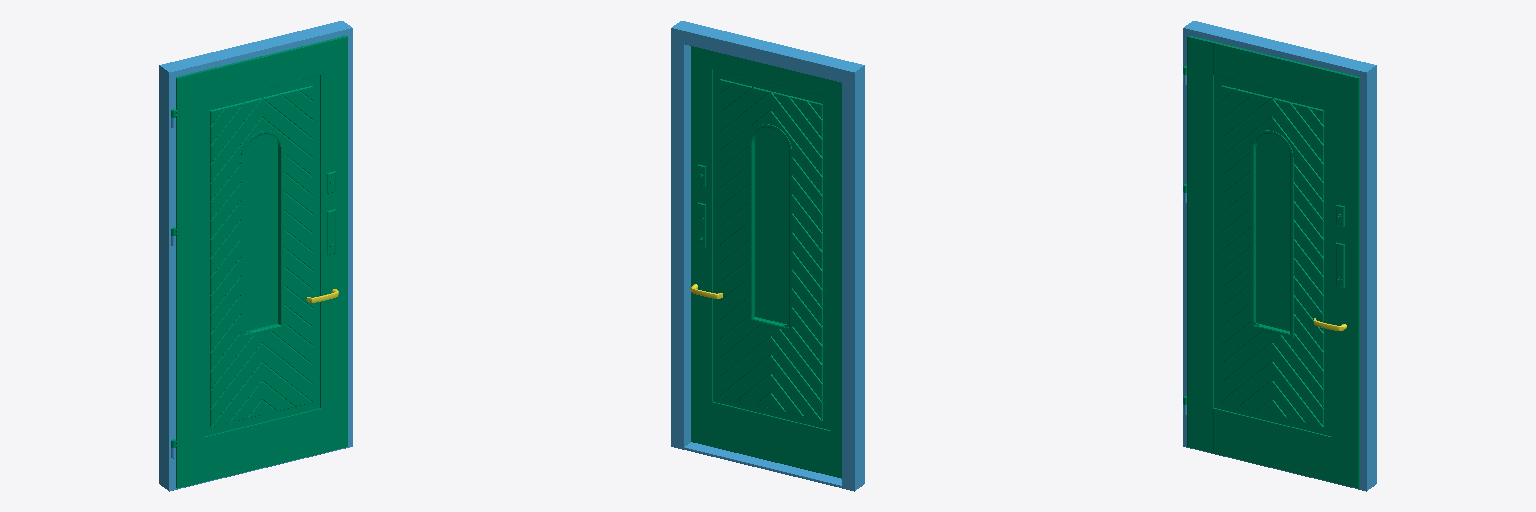
URDF robot description (urdf_door):
<?xml version="1.0" ?>
<robot name="urdf_door">
 <link name="world"/>
  <joint name="fixed" type="fixed">
    <parent link="world"/>
    <child link="baseLink"/>
    <origin xyz="0 0 0"/>
  </joint>

  <link name="baseLink">
    <inertial>
      <origin rpy="0 0 0" xyz="0 0 0"/>
       <mass value="10.0"/>
       <inertia ixx="0.1" ixy="0" ixz="0" iyy="0.1" iyz="0" izz="0.1"/>
    </inertial>
    <visual>
        <origin xyz='0 0 0' rpy='1.5707963267948966 0 0'/>
    <geometry>
     <mesh filename="door/055_frame.obj"  scale="0.01 0.01 0.01" />
    </geometry>
    </visual>
    <collision>
        <origin xyz='0 0 0' rpy='1.5707963267948966 0 0'/>
    <geometry>
     <mesh filename="door/055_frame_vhacd.obj"  scale="0.01 0.01 0.01" />
    </geometry>
    </collision>
  </link>

  <link name="childA">
    <inertial>
      <origin rpy="0 0 0" xyz="0 0 0"/>
      <mass value="40.0"/>
      <inertia ixx="0.048966669" ixy="0" ixz="0" iyy="0.046466667" iyz="0" izz="0.0041666669"/>
    </inertial>

    <visual>
    <origin xyz='0.45 0.04 0' rpy='1.5707963267948966 0 0'/>
    <geometry>
     <mesh filename="door/055_door.obj"  scale="0.01 0.01 0.01" />
    </geometry>
    </visual>

    <collision>
    <origin xyz='0.45 0.04 0' rpy='1.5707963267948966 0 0'/>
    <geometry>
     <mesh filename="door/055_door.obj"  scale="0.01 0.01 0.01" />
    </geometry>
    </collision>
  </link>


  <link name="knob">
    <inertial>
      <mass value="0.1"/>
      <inertia ixx="0.0" ixy="0" ixz="0" iyy="0.0" iyz="0" izz="0.0"/>
    </inertial>

    <visual>
    <geometry>
    <mesh filename="door/055_knob_centered.obj"  scale="0.01 0.01 0.01" />
    </geometry>
    </visual>

    <collision>
    <geometry>
     <mesh filename="door/055_knob_centered.obj"  scale="0.01 0.01 0.01" />
    </geometry>
    </collision>
   </link>

   <joint name="joint_baseLink_childA" type="revolute">
    <parent link="baseLink"/>
    <child link="childA"/>
	<dynamics damping="1.0" friction="0.0"/>
    <origin xyz="-0.45 -0.04 0"/>
    <axis xyz="0 0 1"/>
    <limit lower="-3.14159263" upper="0" />
  </joint>


  <joint name="door_to_knob" type="fixed">
  <parent link="childA"/>
  <child link="knob"/>
  <origin xyz="0.78 0.04 0.8" rpy="1.57 0 0"/>
  </joint>


</robot>

--- What the picture shows (computed from the rendered views, not written in the file) ---
Views: 3 orthographic renders of the robot side by side, from view 1: azimuth 30°, elevation 25°; view 2: azimuth 150°, elevation 25°; view 3: azimuth 330°, elevation 25°.
Model urdf_door with 4 links and 3 joints (1 revolute, 2 fixed), rooted at world, posed all joints at 0.
Links seen in each view (by area): view 1: childA, baseLink; view 2: childA, baseLink; view 3: childA, baseLink.
Boxes of the visible links, bbox=[...] form: childA: bbox=[171, 36, 347, 488]; baseLink: bbox=[159, 21, 352, 491]; childA: bbox=[691, 46, 841, 478]; baseLink: bbox=[671, 21, 864, 491]; childA: bbox=[1183, 36, 1359, 488]; baseLink: bbox=[1183, 21, 1376, 491].
Bounding box of the posed robot: 0.941 × 0.1611 × 2.06 m (x, y, z).
Meshes: 3 distinct files referenced, 3 mesh visuals loaded (3 OBJ).